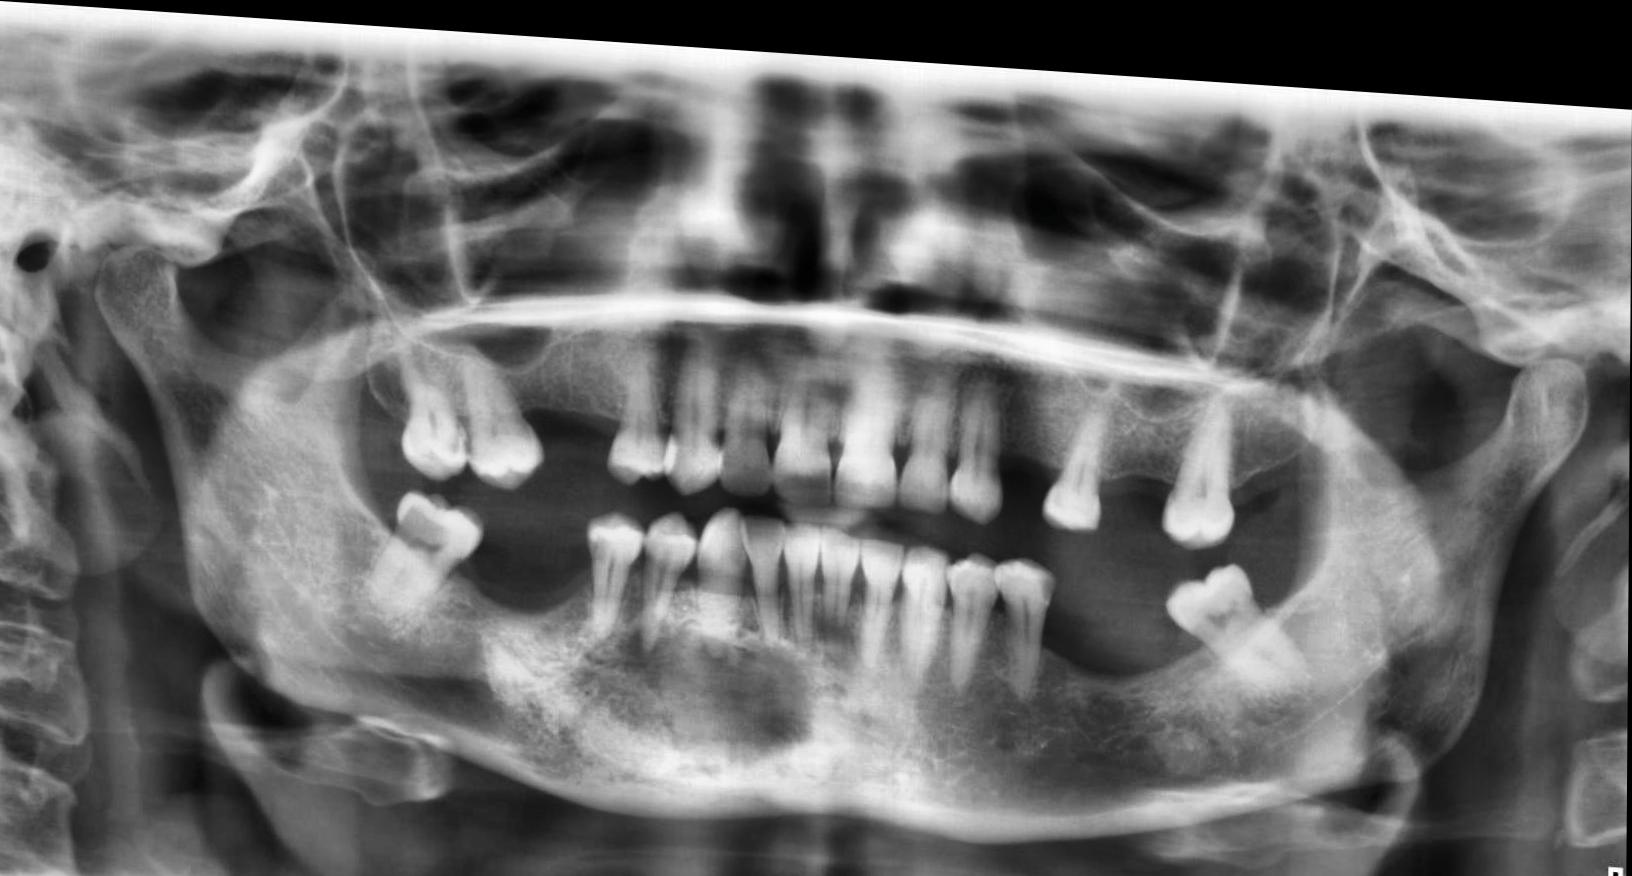okc: (563, 603, 820, 763)
